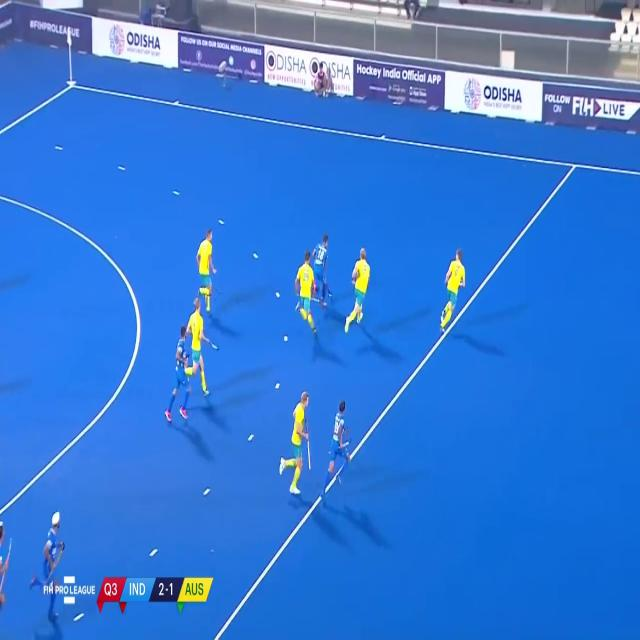ball: (326, 288, 334, 299)
